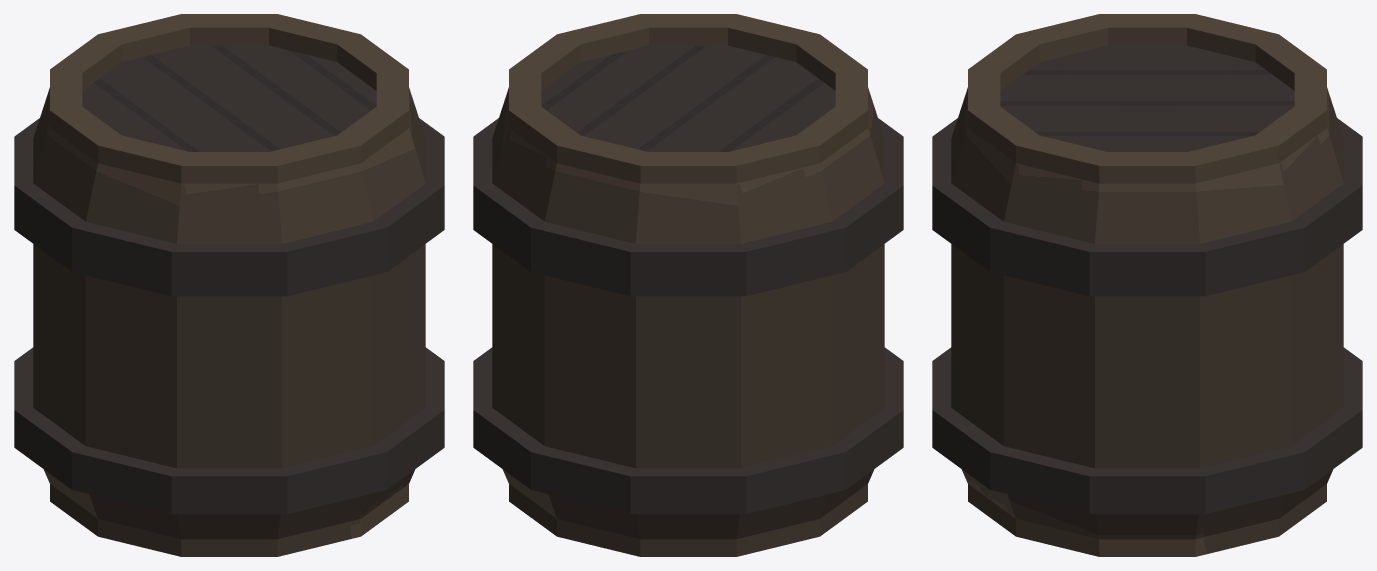
The model's file is Barrel.gltf.
3 views of the same model, side by side, from view 1: azimuth 30°, elevation 25°; view 2: azimuth 150°, elevation 25°; view 3: azimuth 270°, elevation 25° (orthographic).
Parts seen in each view (by area): view 1: cylinder; view 2: cylinder; view 3: cylinder.
Boxes of the visible parts, bbox=[...] form: cylinder: bbox=[14, 14, 444, 556]; cylinder: bbox=[473, 14, 903, 556]; cylinder: bbox=[932, 14, 1362, 556].
Size of the model in its own units: 0.1621 by 0.1625 by 0.1621.
Materials: 1 (1 with a texture image).
